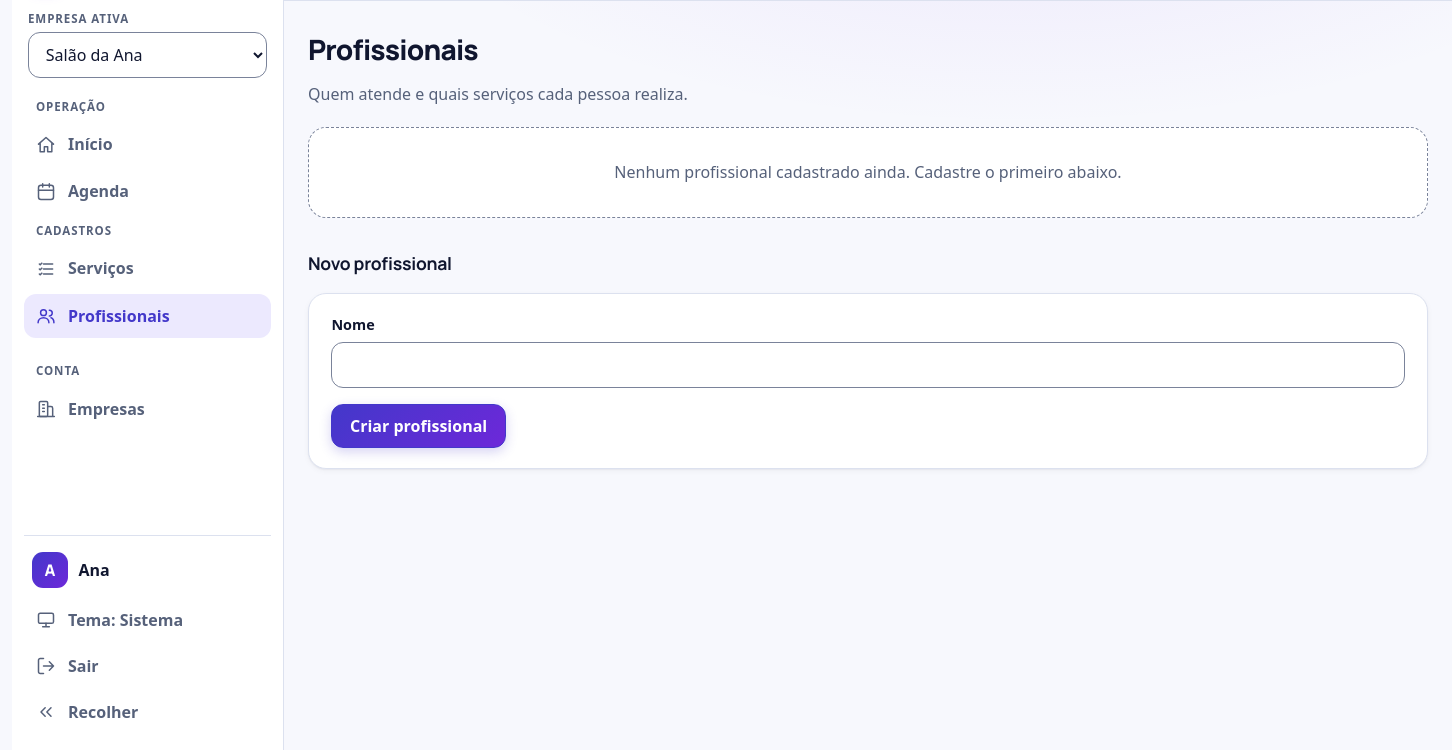
Scenario: lista e criação › criar leva à página do novo profissional (para vincular serviços e horários)
Type "  Fernanda " into the field labelled "Nome" at (868, 365), box [331,342,1405,388]
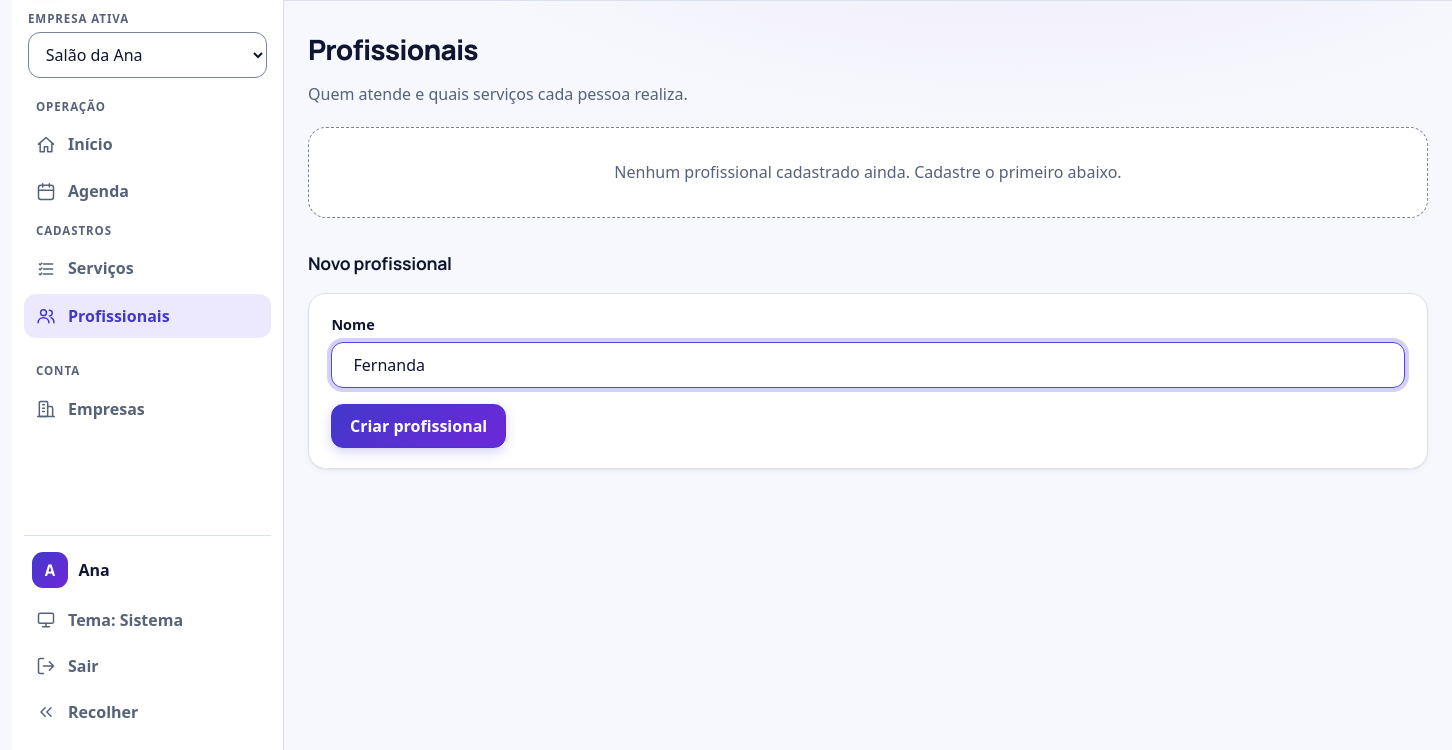
Click the button "Criar profissional" at (419, 426), box [331,404,506,448]
(page scrolled)
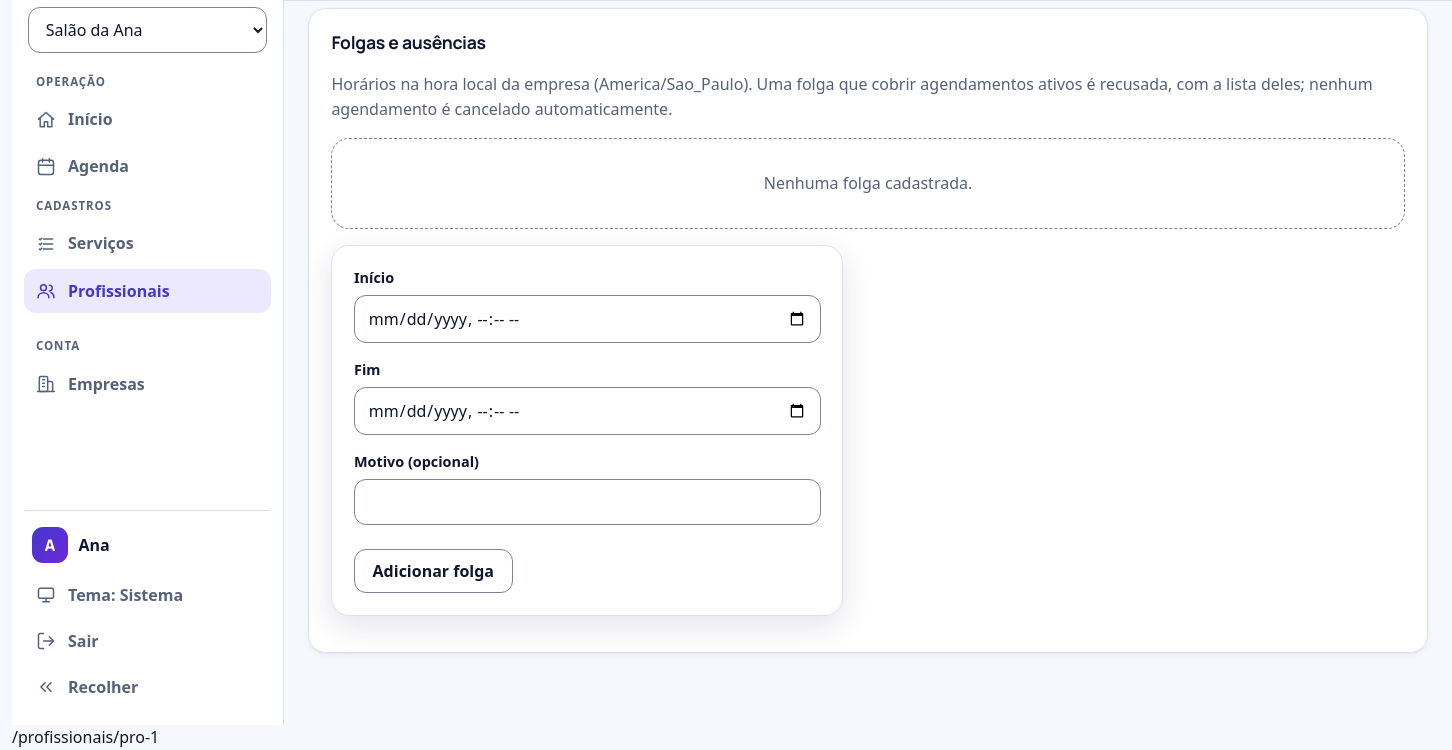
expect the text with test id "location" reads "/profissionais/pro-1": met, box [12,726,159,748]
